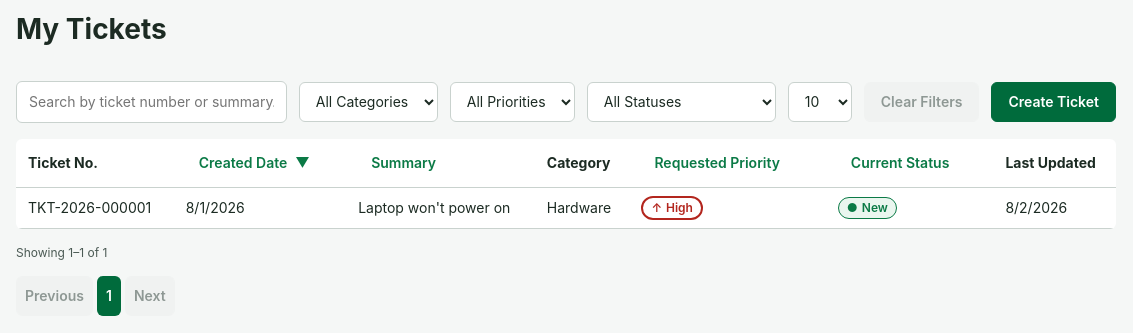
Scenario: MyTickets › toggles sortDir and updates the glyph when clicking the active sortable header
Expected: the icon with class "ticket-table__sort-icon" reads "▼", [295,154,310,170]
What coordinates should you click on to do the following:
click the button "Created Date ▼"
I would click on:
 (254, 162)
Its box is [186,146,323,178].
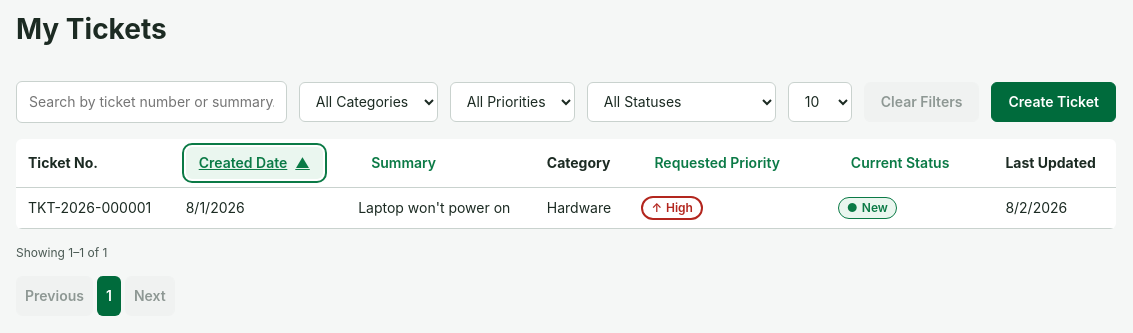
Result: the icon with class "ticket-table__sort-icon" reads "▲" at [295,154,310,170]
